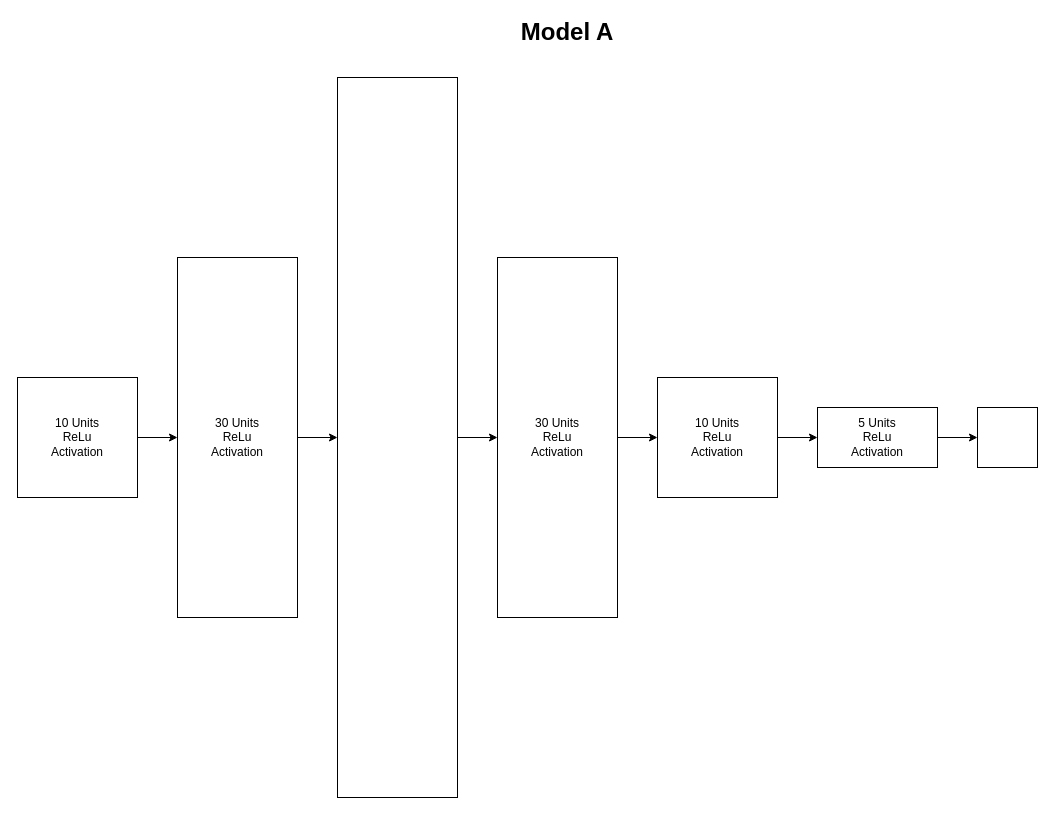
Image size: 1055x815. Some labels were removed from this diagram. Each missing label, with the centre of its shape:
"1 Unit Sigmoid Activation" goes at pixel 1007 437.
"60 Units ReLu Activation" goes at pixel 397 437.
